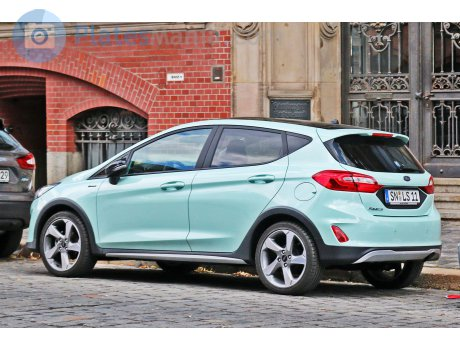License Plates: (390, 190, 418, 198)
